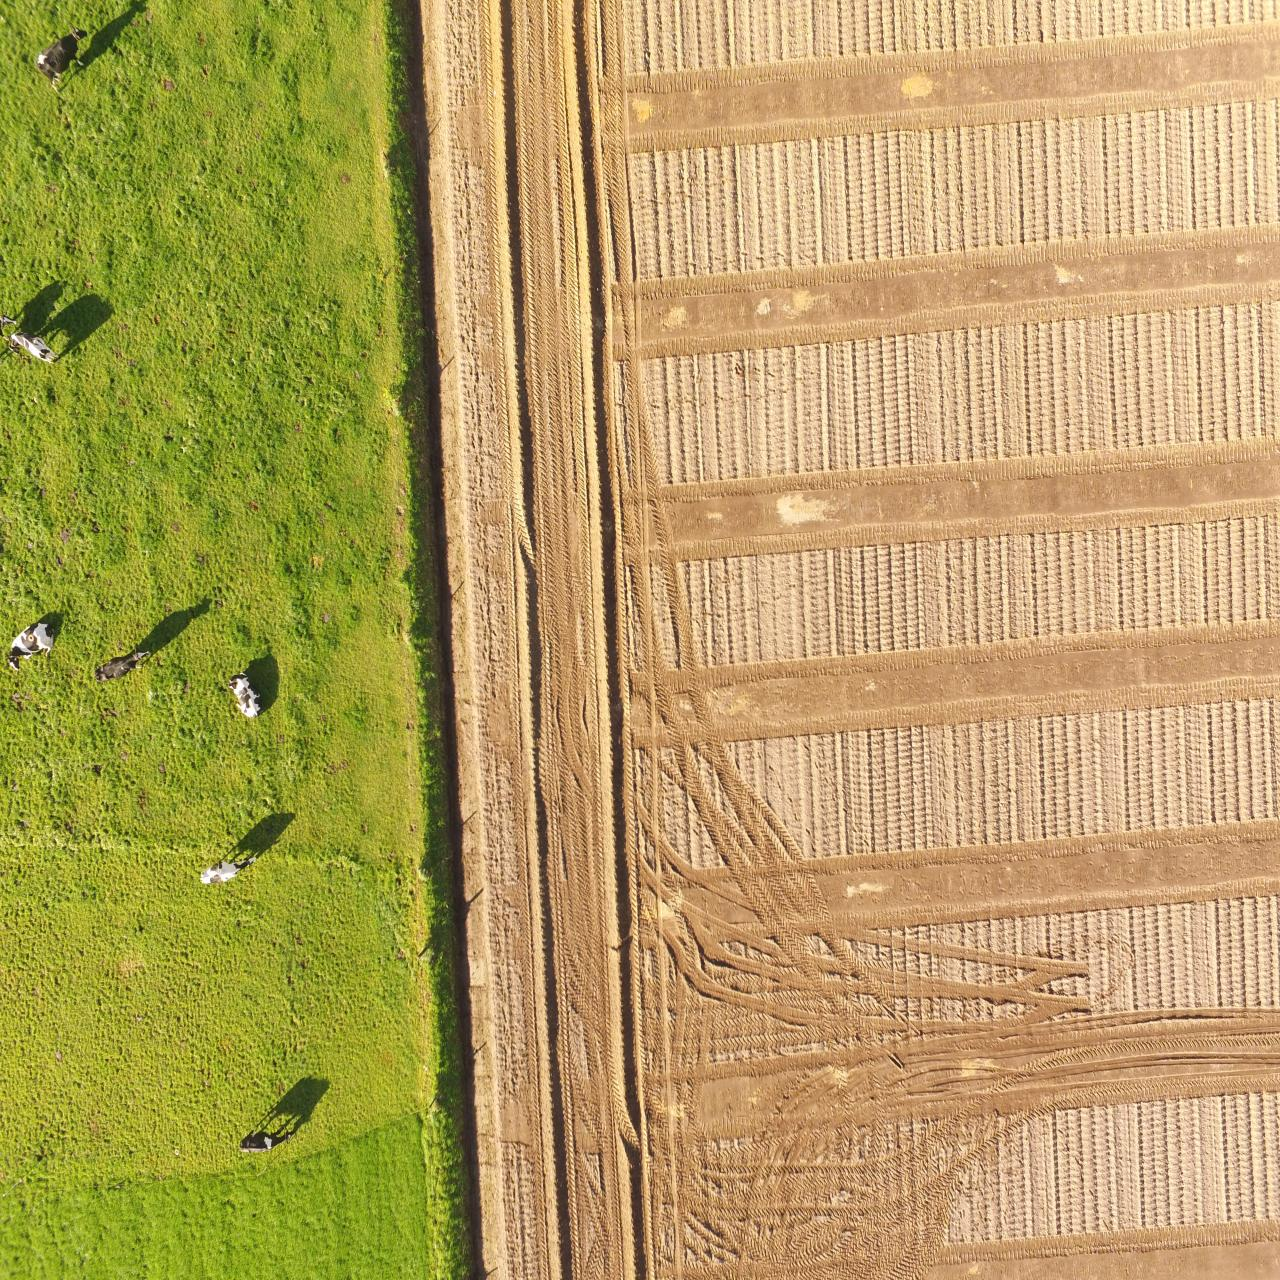cow: (34, 27, 89, 95), (6, 618, 53, 674), (94, 641, 150, 685), (197, 850, 257, 887), (223, 668, 266, 719), (7, 329, 61, 365), (234, 1126, 298, 1153)
